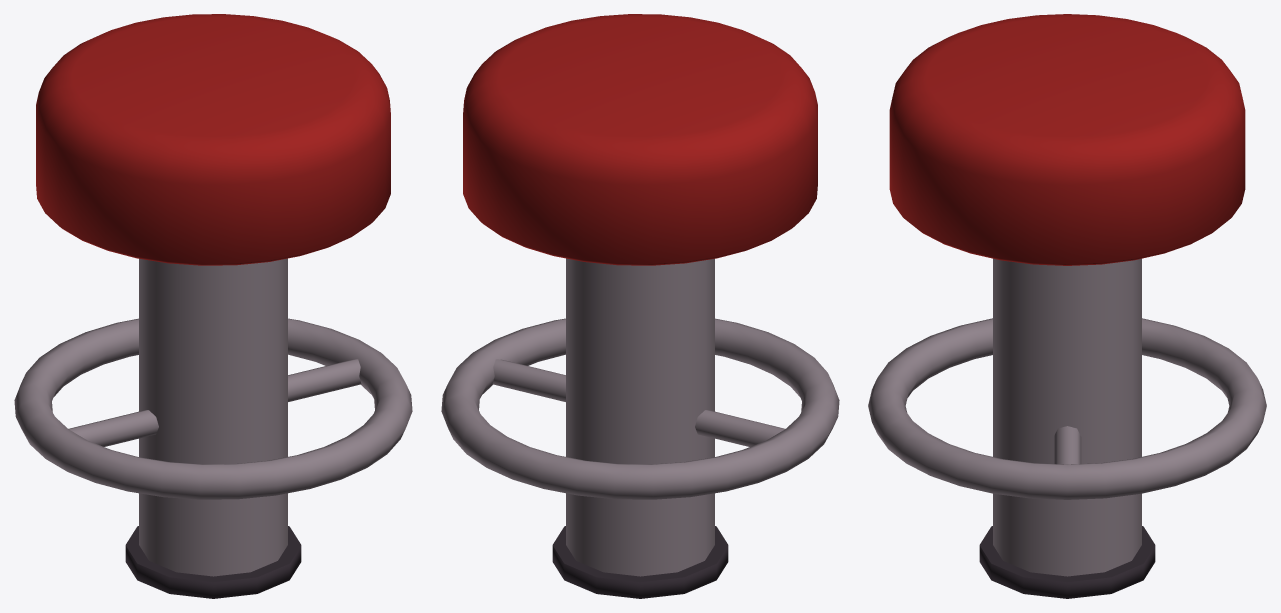
File: GB_051_high_stool.glb
3 views of the same model, side by side, from view 1: azimuth 30°, elevation 25°; view 2: azimuth 150°, elevation 25°; view 3: azimuth 270°, elevation 25° (orthographic).
Visible parts, largest first — view 1: Seat, Leg, Footrest.002, Footrest; view 2: Seat, Leg, Footrest.002, Footrest; view 3: Seat, Leg, Footrest.002, Footrest.
Boxes of the visible parts, x1,y1,x2,y2 form: Seat: [36, 14, 390, 265]; Leg: [125, 258, 301, 598]; Footrest.002: [14, 318, 412, 499]; Footrest: [68, 359, 361, 446]; Seat: [463, 14, 817, 265]; Leg: [552, 258, 728, 598]; Footrest.002: [441, 318, 839, 499]; Footrest: [492, 359, 785, 446]; Seat: [889, 14, 1245, 265]; Leg: [979, 258, 1155, 598]; Footrest.002: [868, 318, 1266, 499]; Footrest: [1053, 426, 1081, 464].
Bounding box in the file's own units: 0.769 × 1.03 × 0.769.
